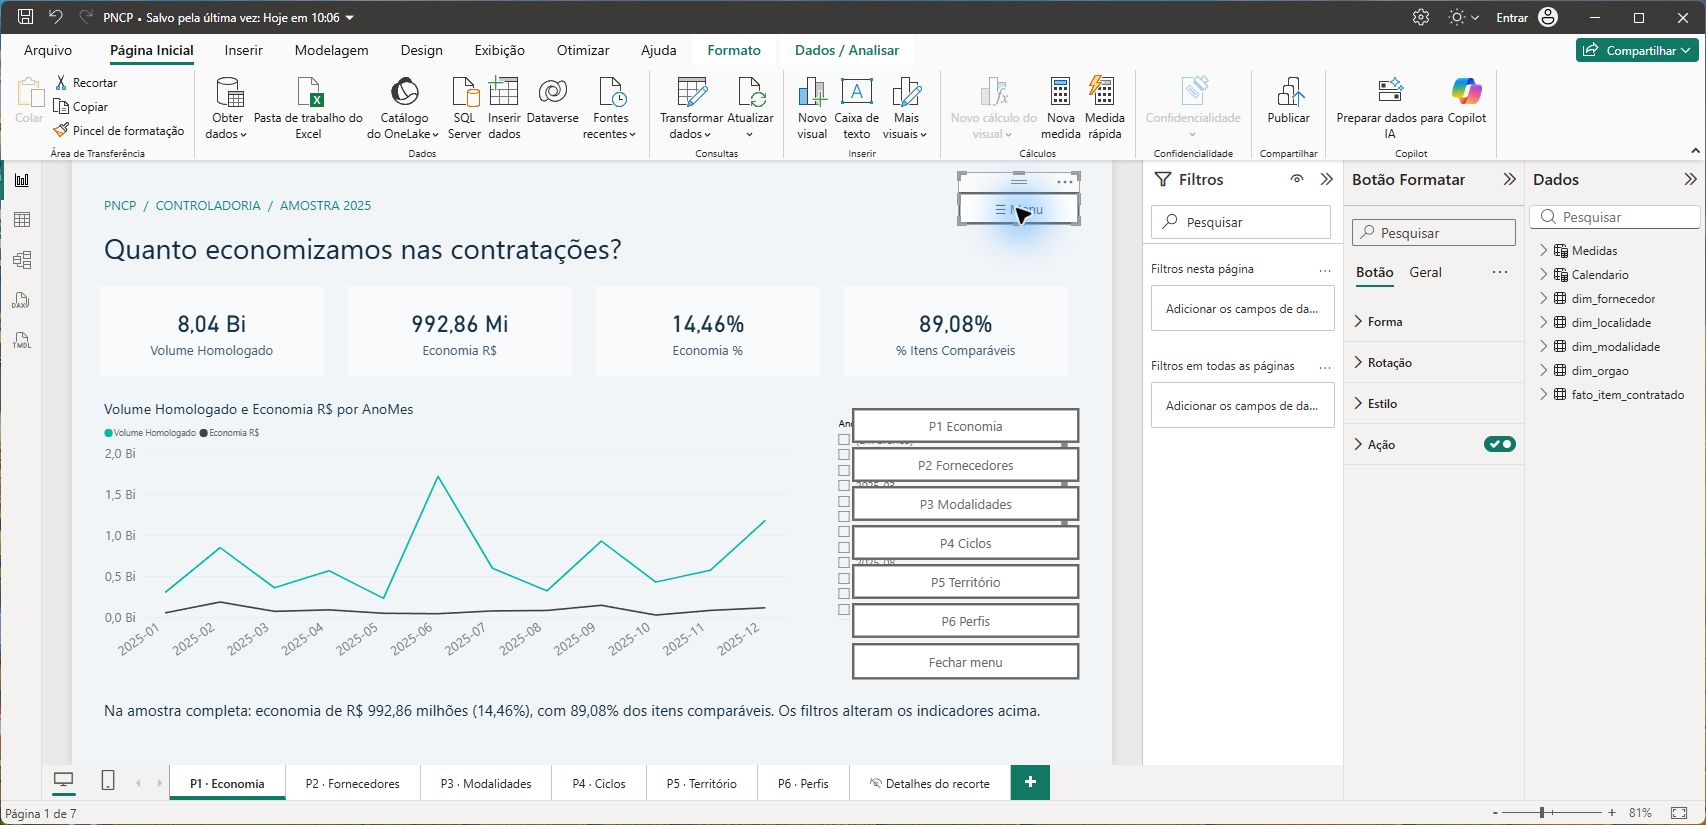

What the dashboard file says about the page in this screenshot:
{"tool":"powerbi","page":{"name":"P1 · Economia","canvas":[1280,720],"ordinal":0},"visuals":[{"type":"textbox","box":[35,15,950,32],"z":0},{"type":"textbox","box":[35,55,1150,60],"z":0},{"type":"card","fields":{"Values":["Medidas.Volume Homologado"]},"box":[35,130,275,110],"z":0},{"type":"card","fields":{"Values":["Medidas.Economia R$"]},"box":[340,130,275,110],"z":0},{"type":"card","fields":{"Values":["Medidas.Economia %"]},"box":[645,130,275,110],"z":0},{"type":"card","fields":{"Values":["Medidas.% Itens Comparáveis"]},"box":[950,130,275,110],"z":0},{"type":"lineChart","fields":{"Category":["Calendario.AnoMes"],"Y":["Medidas.Volume Homologado","Medidas.Economia R$"]},"box":[35,270,850,340],"z":0},{"type":"slicer","fields":{"Values":["Calendario.AnoMes"]},"box":[930,285,300,260],"z":0},{"type":"textbox","box":[35,635,1200,65],"z":0},{"type":"actionButton","box":[1090,15,150,40],"z":101}]}

Visuals, with their boxes on the page's 1280x720 design canvas (x1, y1, x2, y2). These are canvas units, not pixel positions in the 1706x825 screenshot, which may show the page scaled, cropped or inside an application window:
textbox: {"left": 35, "top": 15, "right": 985, "bottom": 47}
textbox: {"left": 35, "top": 55, "right": 1185, "bottom": 115}
card - Medidas.Volume Homologado: {"left": 35, "top": 130, "right": 310, "bottom": 240}
card - Medidas.Economia R$: {"left": 340, "top": 130, "right": 615, "bottom": 240}
card - Medidas.Economia %: {"left": 645, "top": 130, "right": 920, "bottom": 240}
card - Medidas.% Itens Comparáveis: {"left": 950, "top": 130, "right": 1225, "bottom": 240}
lineChart - Calendario.AnoMes x Medidas.Volume Homologado: {"left": 35, "top": 270, "right": 885, "bottom": 610}
slicer - Calendario.AnoMes: {"left": 930, "top": 285, "right": 1230, "bottom": 545}
textbox: {"left": 35, "top": 635, "right": 1235, "bottom": 700}
actionButton: {"left": 1090, "top": 15, "right": 1240, "bottom": 55}
